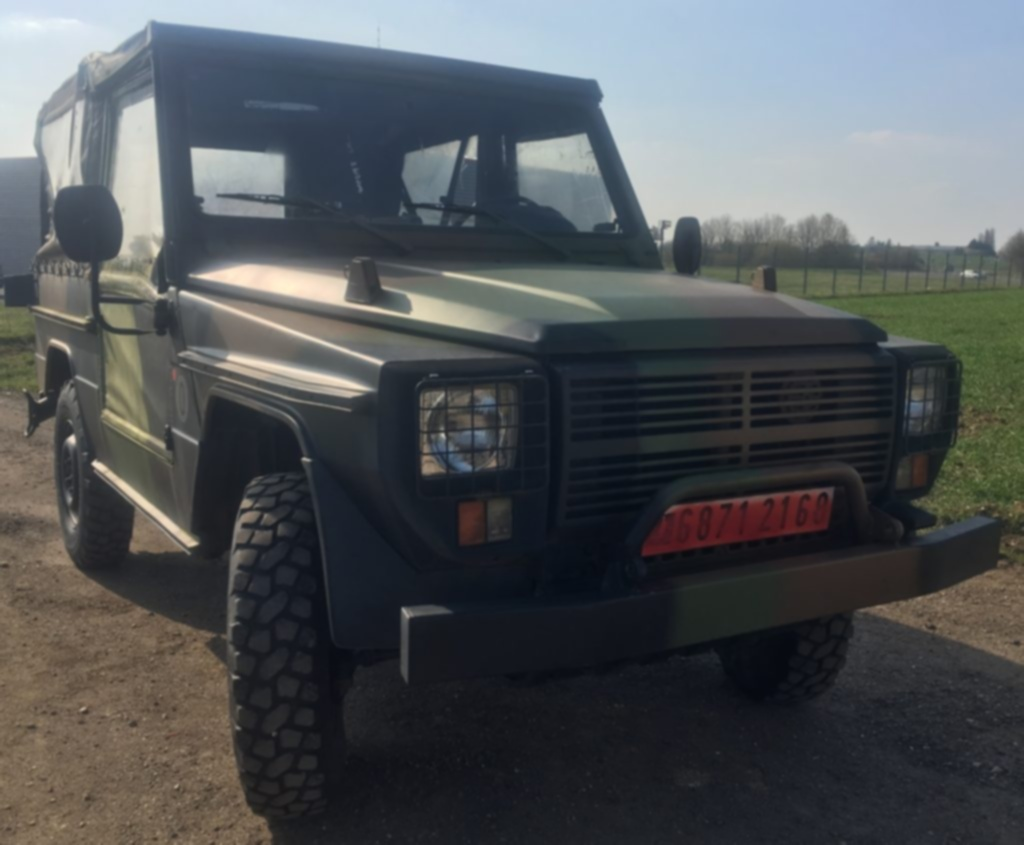license_plate: (655, 501, 832, 544)
